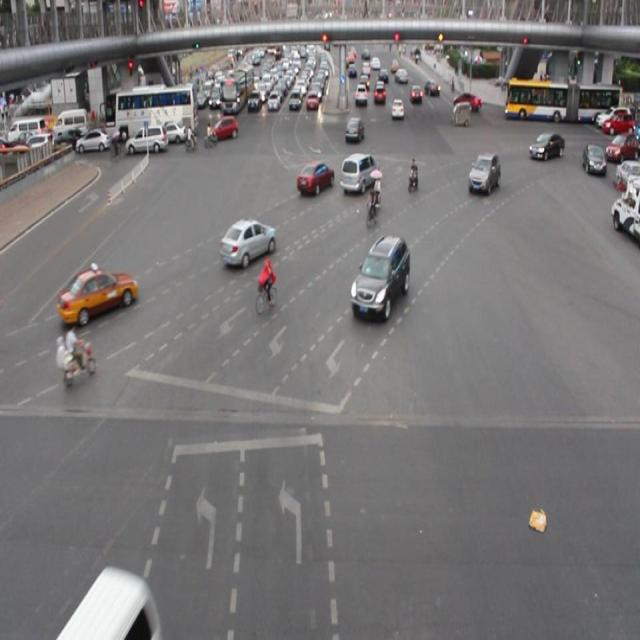car: (349, 234, 411, 321), (56, 262, 138, 326), (218, 217, 277, 269), (466, 150, 501, 197), (296, 161, 334, 196), (527, 128, 563, 164)
truck: (54, 570, 160, 640), (338, 152, 379, 193)
